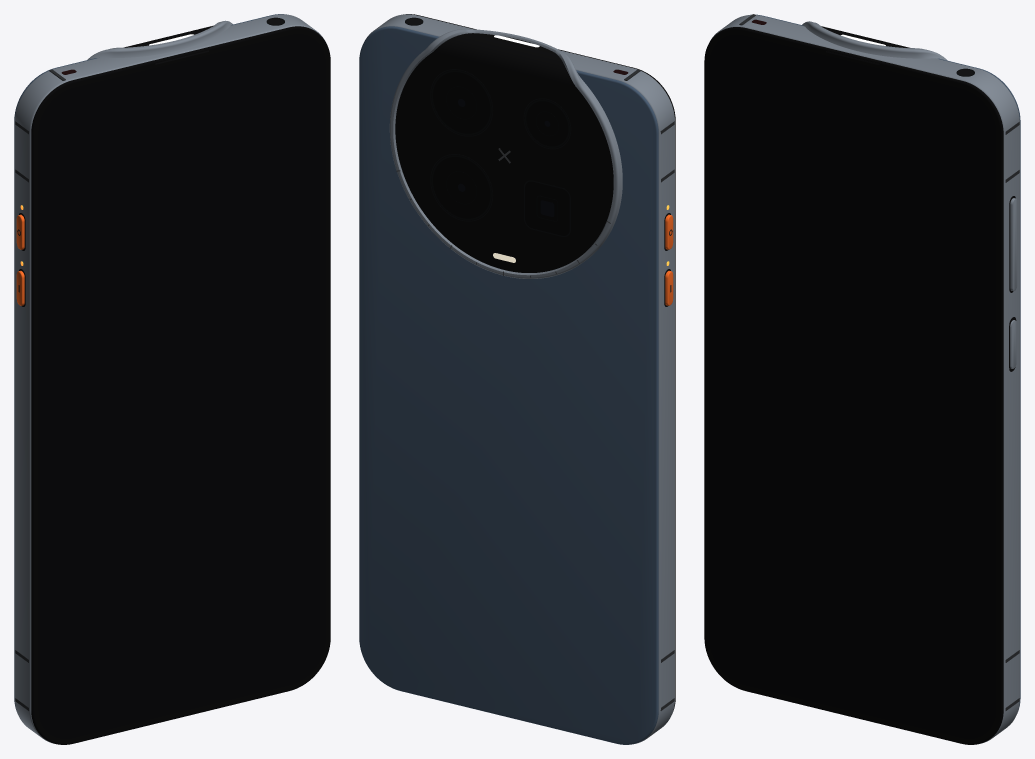
The model's file is oy0x2pro.glb.
3 renders of one model, left to right at view 1: azimuth 30°, elevation 25°; view 2: azimuth 150°, elevation 25°; view 3: azimuth 330°, elevation 25°, orthographic.
Visible parts, largest first — view 1: Screen, ScreenCPix, Frame, Glass, CamIsland, Body; view 2: Body, CamPlate, Frame, CamIsland, MainCam, TeleCam, Periscope, CameraModules, Glass; view 3: Screen, ScreenCPix, Glass, Frame, CamIsland, Body, VolumeRocker.
Boxes of the visible parts, x1=… form: Screen: x1=38, y1=34, x2=325, y2=738; ScreenCPix: x1=38, y1=34, x2=325, y2=708; Frame: x1=15, y1=14, x2=324, y2=743; Glass: x1=31, y1=26, x2=330, y2=744; CamIsland: x1=87, y1=20, x2=232, y2=59; Body: x1=14, y1=14, x2=283, y2=711; Body: x1=359, y1=26, x2=658, y2=744; CamPlate: x1=395, y1=33, x2=613, y2=272; Frame: x1=365, y1=14, x2=674, y2=743; CamIsland: x1=389, y1=29, x2=622, y2=278; MainCam: x1=430, y1=69, x2=492, y2=136; TeleCam: x1=430, y1=154, x2=492, y2=221; Periscope: x1=524, y1=180, x2=570, y2=236; CameraModules: x1=523, y1=98, x2=571, y2=149; Glass: x1=406, y1=14, x2=675, y2=711; Screen: x1=709, y1=35, x2=995, y2=738; ScreenCPix: x1=709, y1=35, x2=995, y2=738; Glass: x1=704, y1=27, x2=1003, y2=744; Frame: x1=710, y1=15, x2=1019, y2=744; CamIsland: x1=802, y1=21, x2=947, y2=60; Body: x1=750, y1=14, x2=1020, y2=713; VolumeRocker: x1=1010, y1=198, x2=1017, y2=291.
Size of the model in its own units: 0.08 by 0.1681 by 0.0107.
